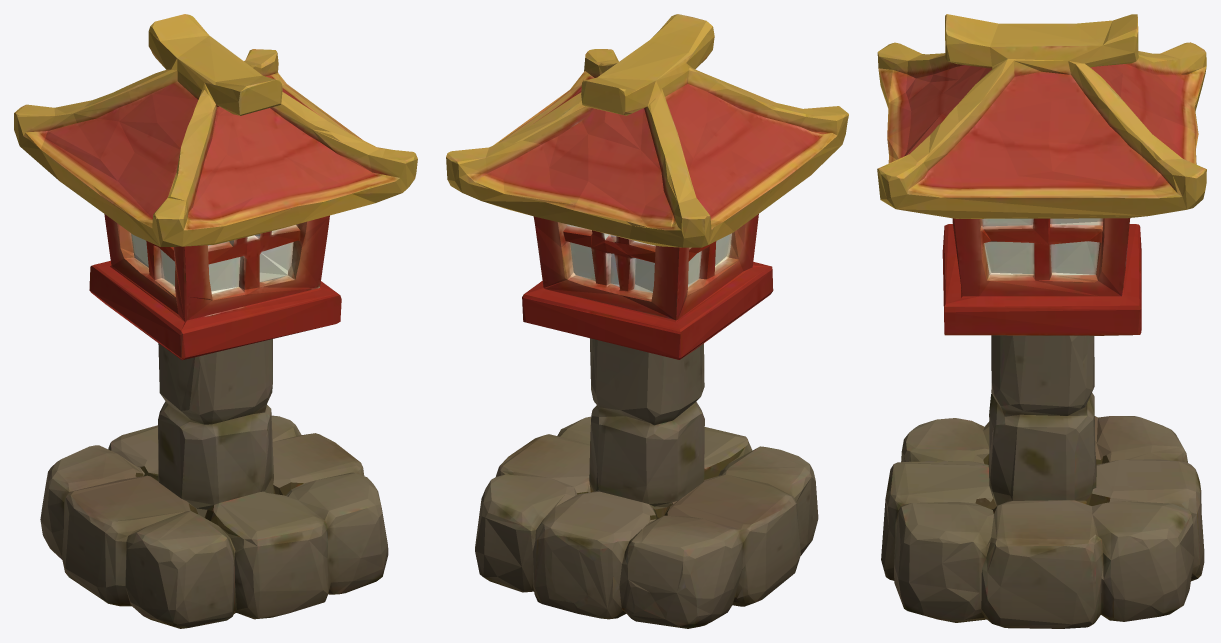
Rendered from lantern.glb.
3 views of the same model, side by side, from view 1: azimuth 30°, elevation 25°; view 2: azimuth 150°, elevation 25°; view 3: azimuth 270°, elevation 25° (orthographic). The views are drawn at different scales.
Visible parts, largest first — view 1: tmpedbq4s8n.ply; view 2: tmpedbq4s8n.ply; view 3: tmpedbq4s8n.ply.
Boxes of the visible parts, x1,y1,x2,y2 form: tmpedbq4s8n.ply: (14, 14, 417, 628); tmpedbq4s8n.ply: (446, 14, 848, 628); tmpedbq4s8n.ply: (877, 14, 1206, 628).
Bounding box in the file's own units: 1.09 × 1.99 × 1.09.
Materials: 1 (1 with a texture image).
